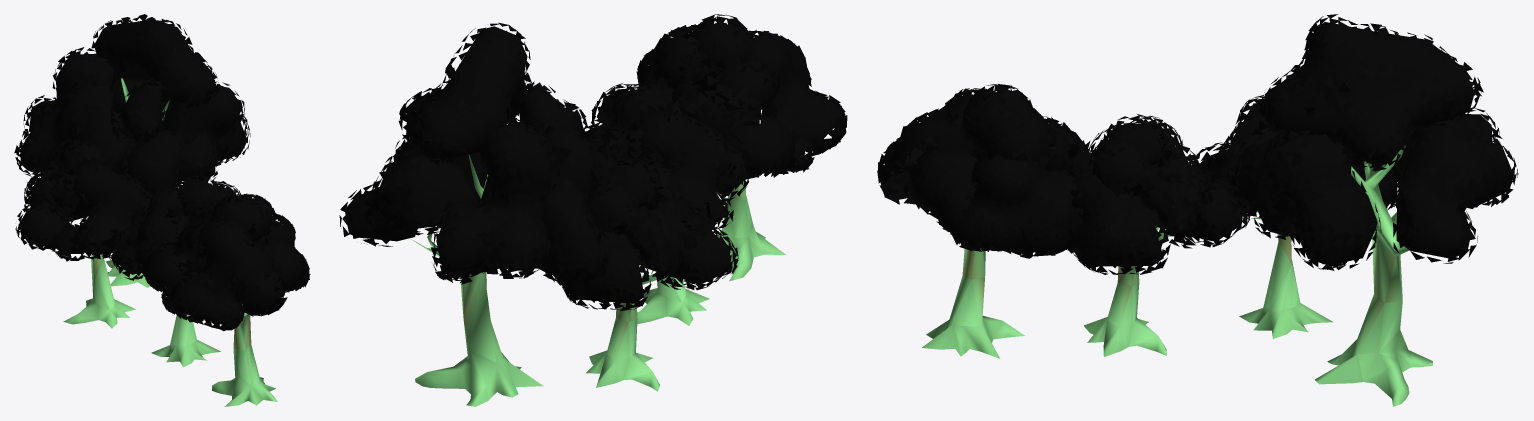
Rendered from SM_ENV_LKNVLD_TreeSet_D_Lod3.gltf.
The picture shows the model from 3 angles, left to right: view 1: azimuth 30°, elevation 25°; view 2: azimuth 150°, elevation 25°; view 3: azimuth 270°, elevation 25°; orthographic projection. The views are drawn at different scales.
Parts seen in each view (by area): view 1: SM_ENV_LKNVLD_TreeSet_D_Lod3; view 2: SM_ENV_LKNVLD_TreeSet_D_Lod3; view 3: SM_ENV_LKNVLD_TreeSet_D_Lod3.
Boxes of the visible parts, x1,y1,x2,y2 form: SM_ENV_LKNVLD_TreeSet_D_Lod3: (14, 14, 310, 406); SM_ENV_LKNVLD_TreeSet_D_Lod3: (339, 14, 847, 406); SM_ENV_LKNVLD_TreeSet_D_Lod3: (877, 14, 1518, 406).
Size of the model in its own units: 13.49 by 13.93 by 22.41.
